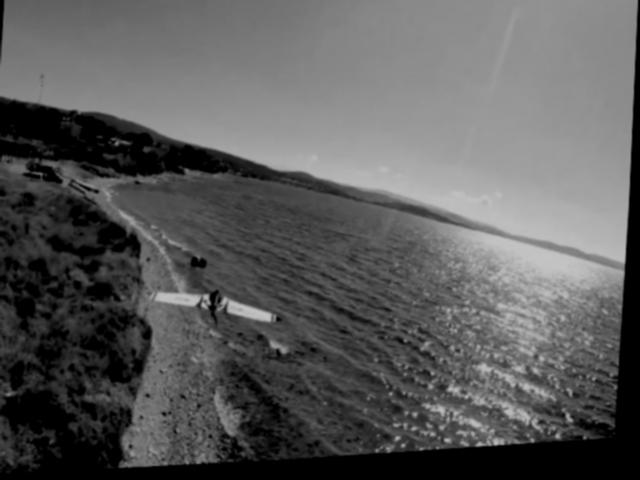hedef: (137, 270, 293, 344)
